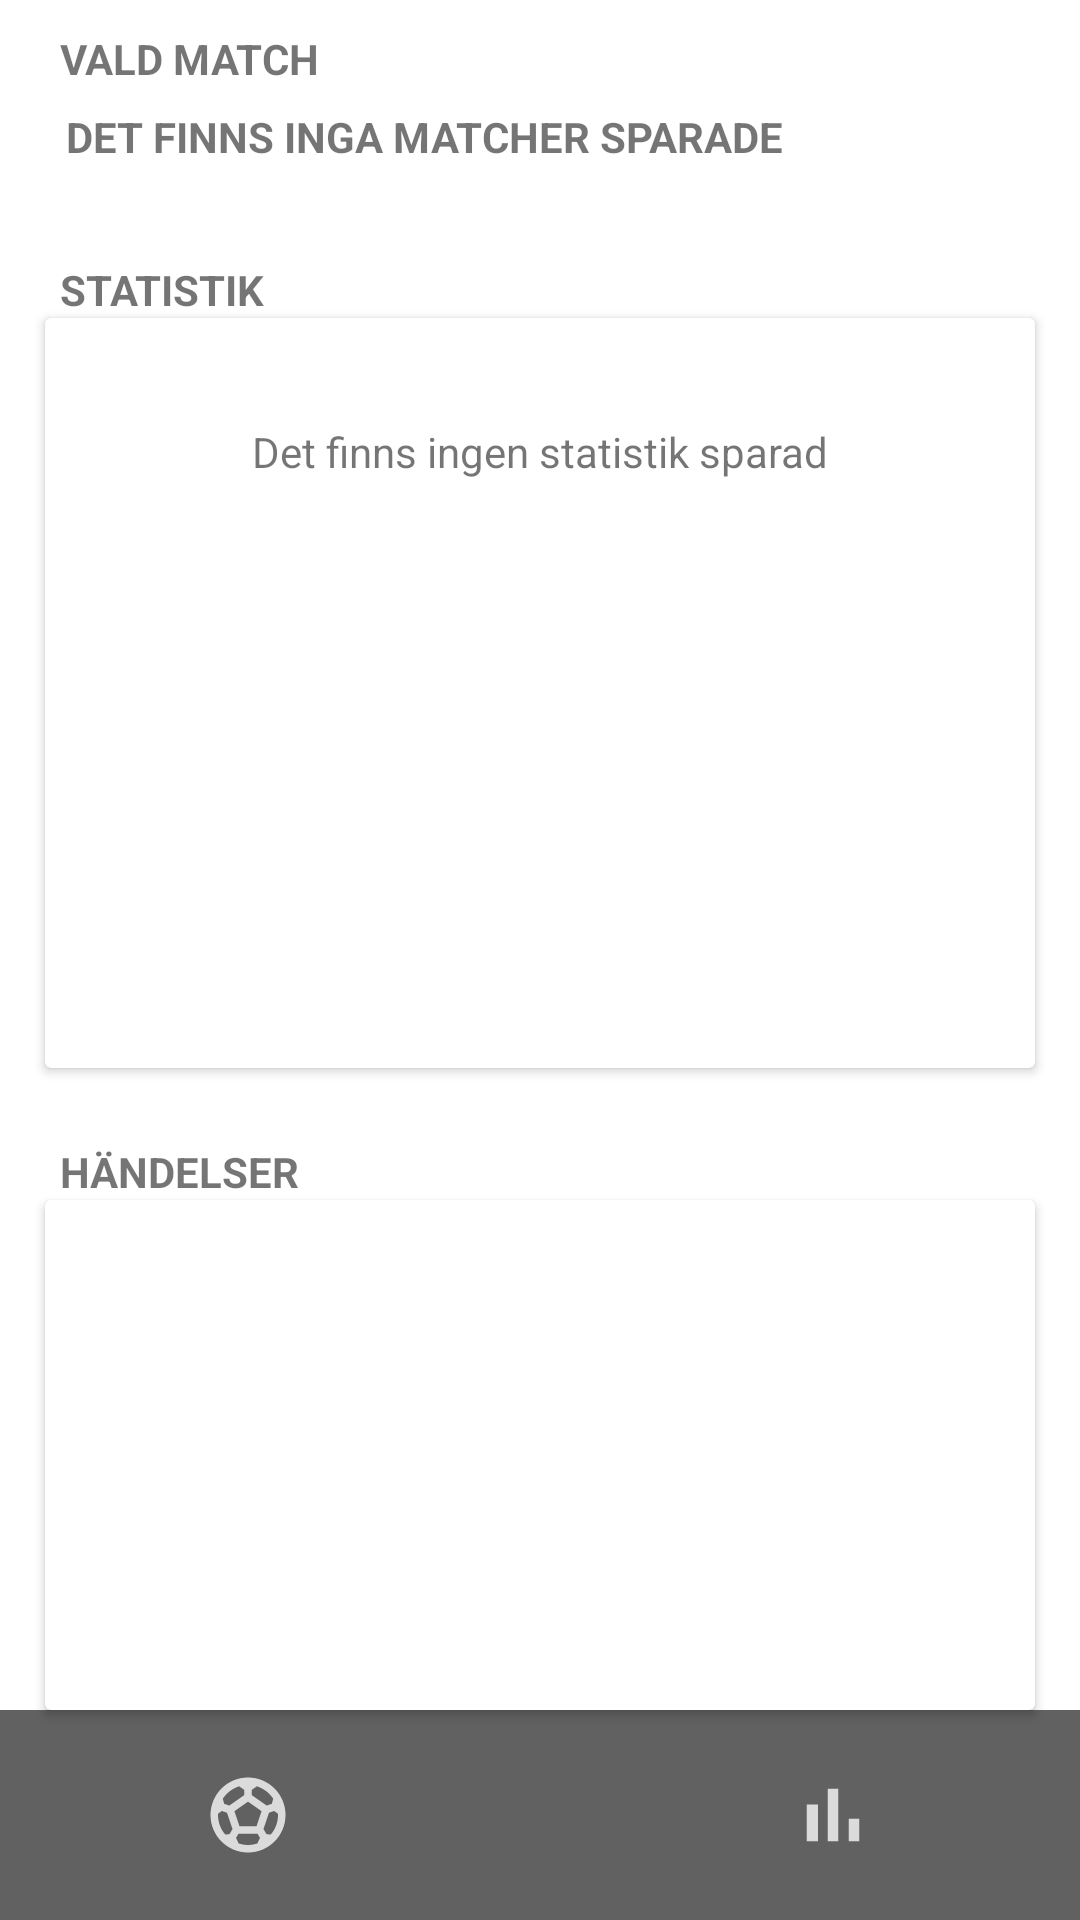

Where icons sit on this 1080 × 1920 app screen, as rect(x1, y1, x2, y2):
bar chart: rect(806, 1788, 860, 1842)
sports soccer: rect(210, 1777, 286, 1853)
